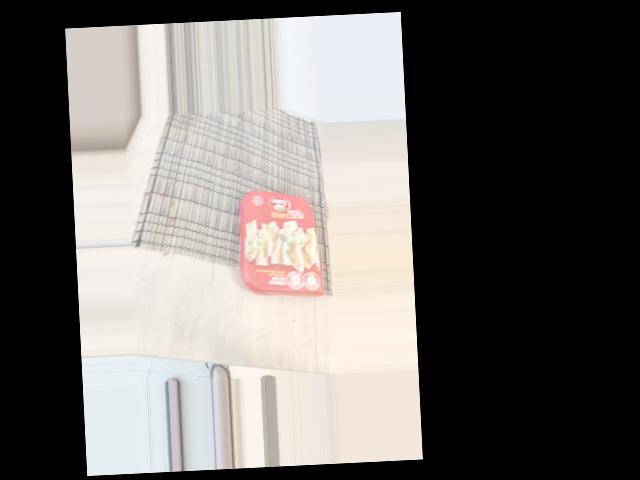cheese: (119, 215, 251, 311)
